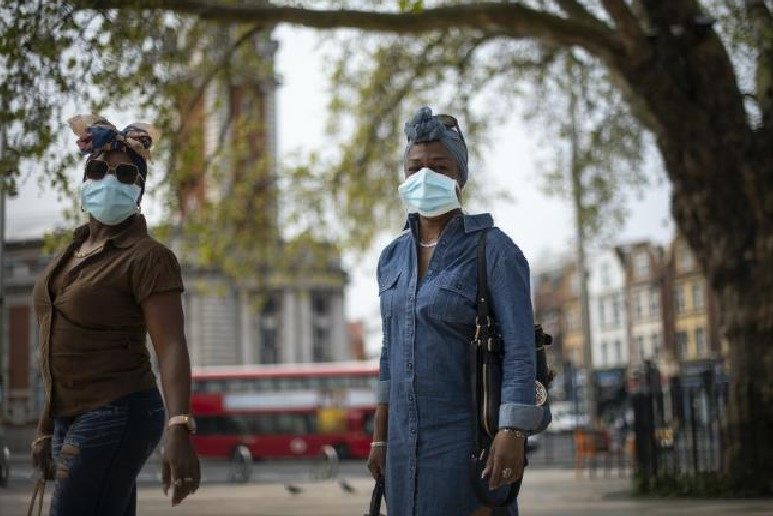face_with_mask: (72, 120, 148, 226), (393, 111, 469, 216)
